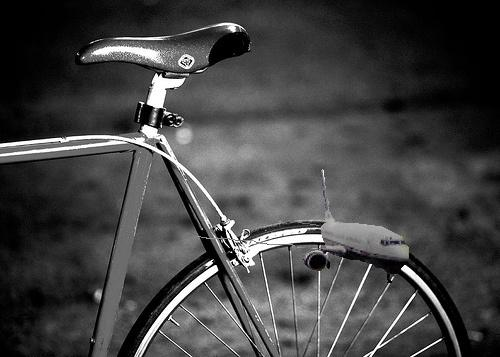tampered: (197, 170, 409, 283)
